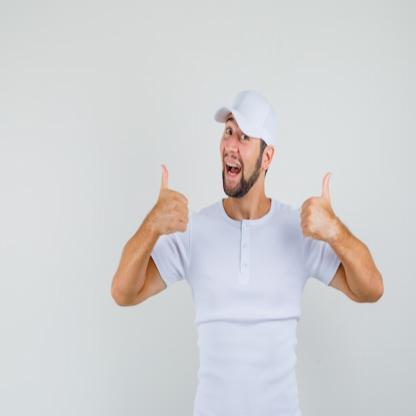thumb_up: (296, 169, 340, 247), (149, 162, 191, 238)
